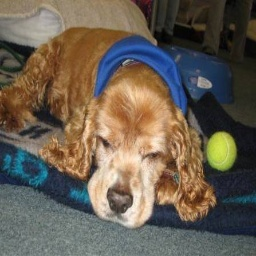dog: (5, 26, 213, 225)
